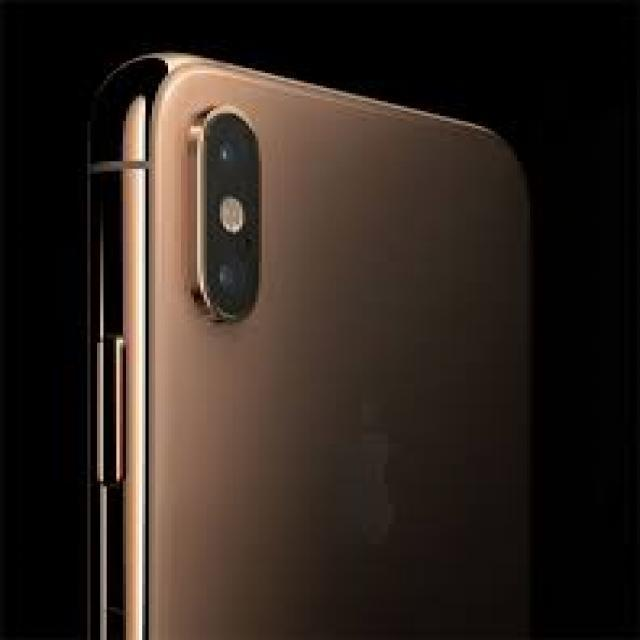phone: (80, 39, 574, 639)
